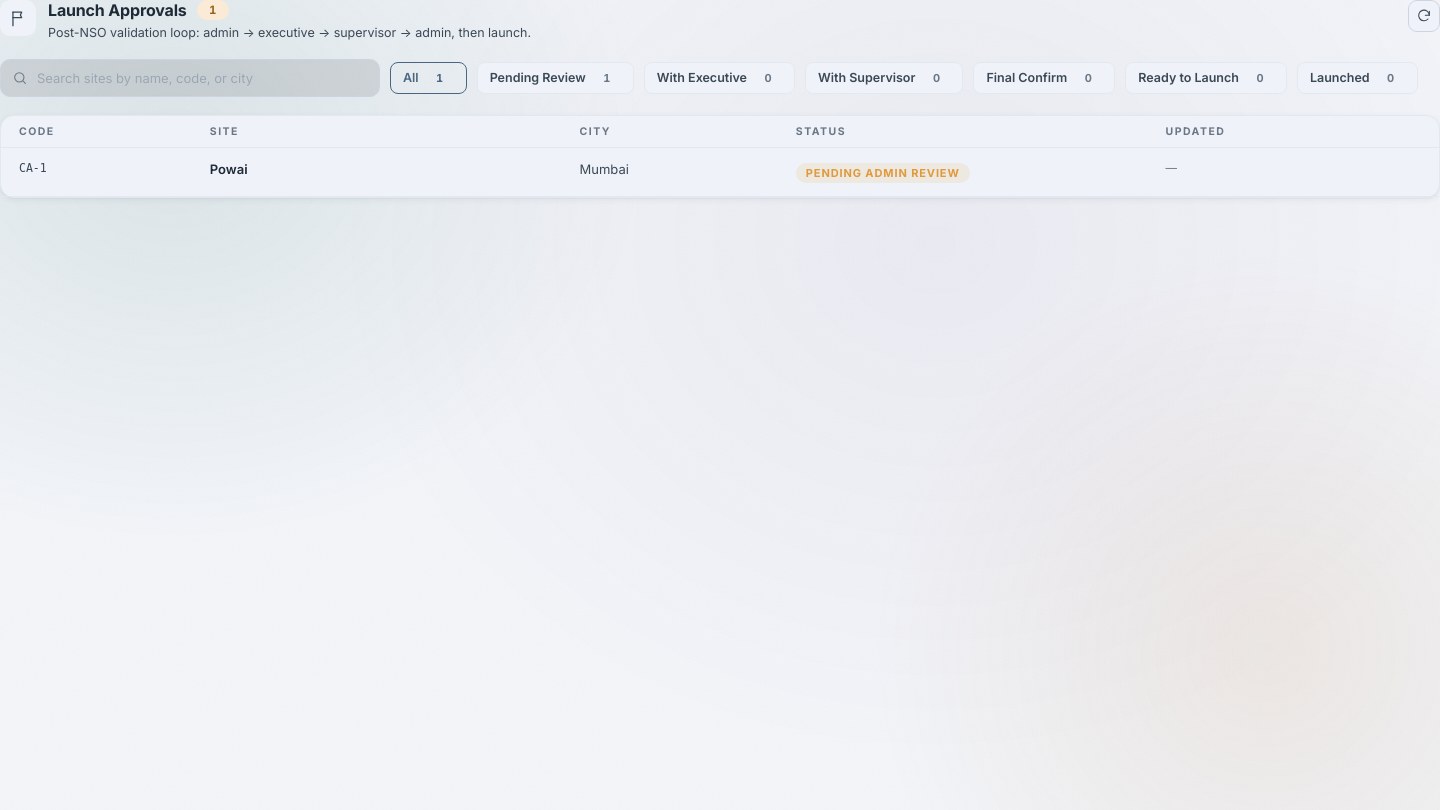
Test case: LaunchApprovalTab — commercial terms › its Edit toggle opens the commercial form without opening the rent form
This screenshot has width=1440, height=810.
Click the text "Powai". click: [229, 169]
box: [210,161,248,177]
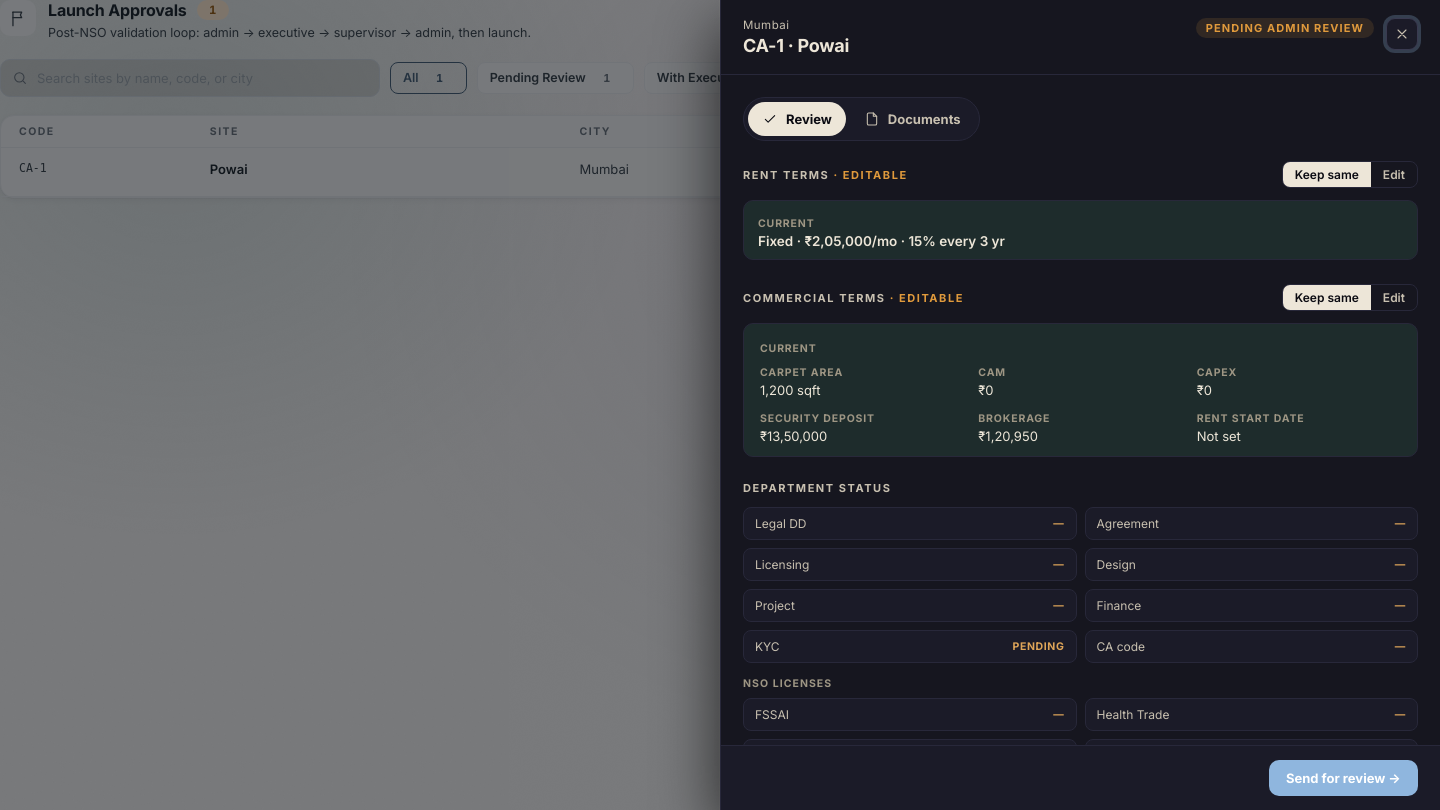
Click the button with aria-label "Edit commercial terms". click: [1394, 298]
box: [1371,285,1417,310]
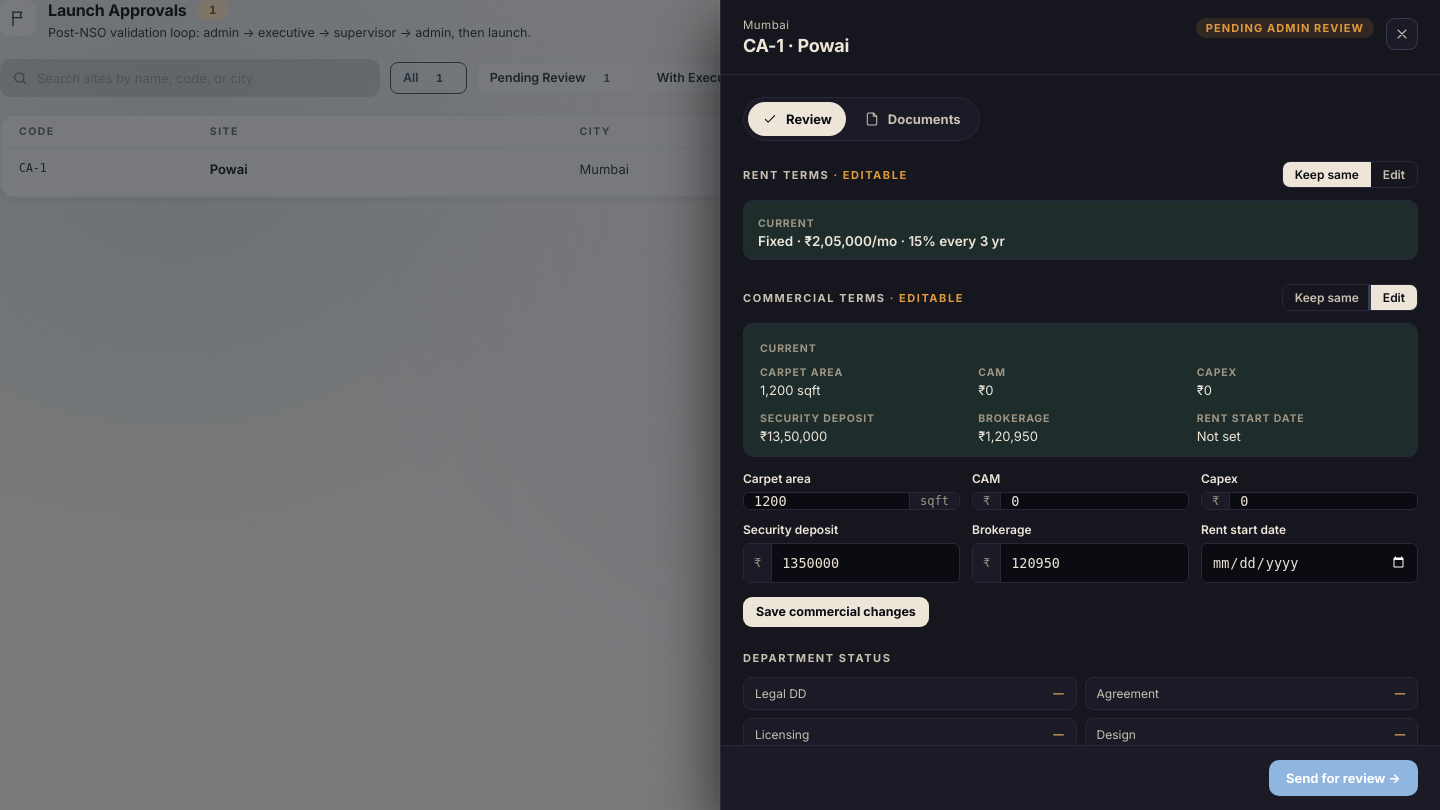
Expected: the button "Save commercial changes" is shown, [743,597,929,627]
